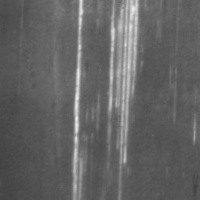scratches: (99, 1, 145, 168), (65, 0, 97, 197)
